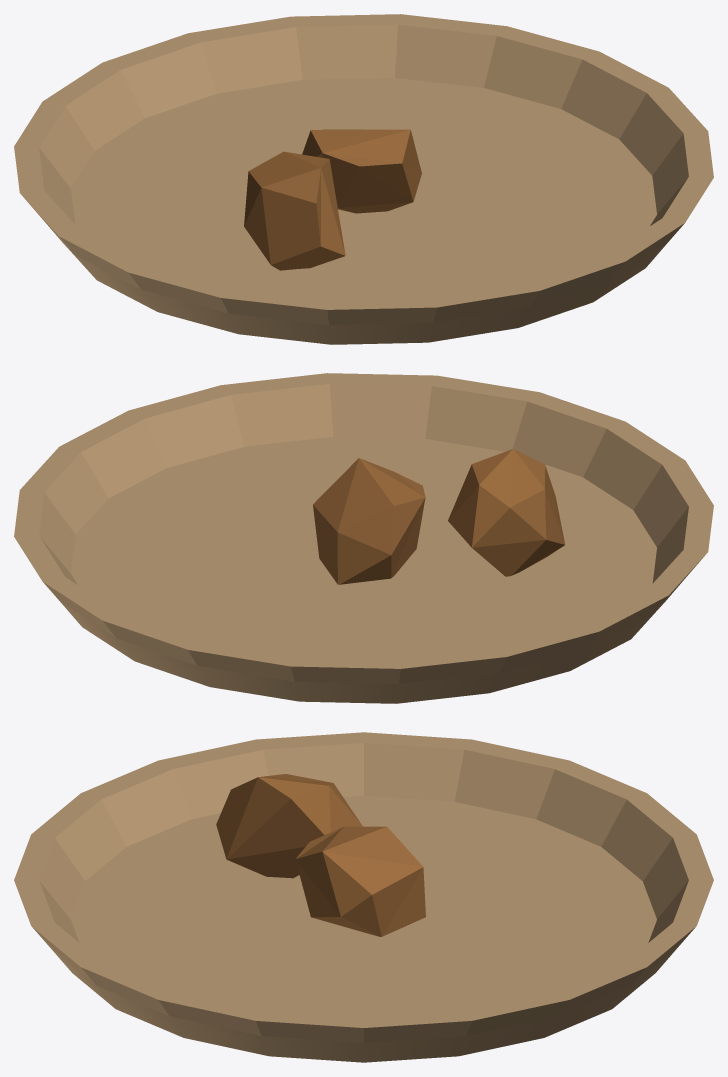
The model's file is Vessel_2.fbx.
3 views of the same model, one above another, from view 1: azimuth 30°, elevation 25°; view 2: azimuth 150°, elevation 25°; view 3: azimuth 270°, elevation 25° (orthographic).
Visible parts, largest first — view 1: Saucer, CopperPieceBig2, CopperPieceBig1; view 2: Saucer, CopperPieceBig1, CopperPieceBig2; view 3: Saucer, CopperPieceBig1, CopperPieceBig2.
Part boxes in pixels (left/top/right/bottom): Saucer: left=14, top=14, right=713, bottom=344; CopperPieceBig2: left=244, top=151, right=345, bottom=270; CopperPieceBig1: left=302, top=129, right=421, bottom=213; Saucer: left=14, top=373, right=713, bottom=703; CopperPieceBig1: left=313, top=458, right=425, bottom=584; CopperPieceBig2: left=448, top=449, right=565, bottom=576; Saucer: left=14, top=732, right=713, bottom=1062; CopperPieceBig1: left=295, top=826, right=425, bottom=936; CopperPieceBig2: left=216, top=774, right=362, bottom=878.
Bounding box in the file's own units: 21.13 × 3.64 × 21.13.
